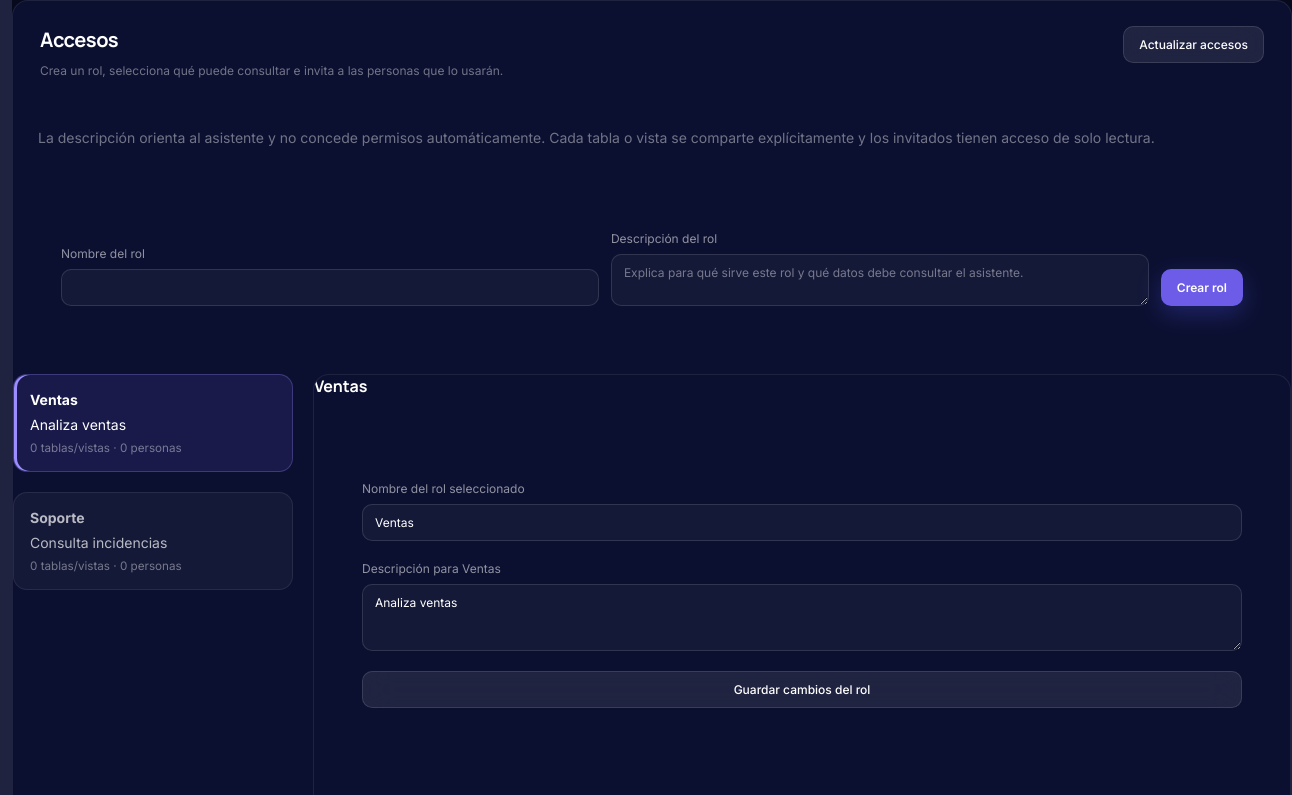
Test: conserva la descripción escrita si falla el guardado
Replace the text in the text box labelled "Descripción para Ventas" with "Nueva descripción" at (802, 617), box [362,584,1242,651]
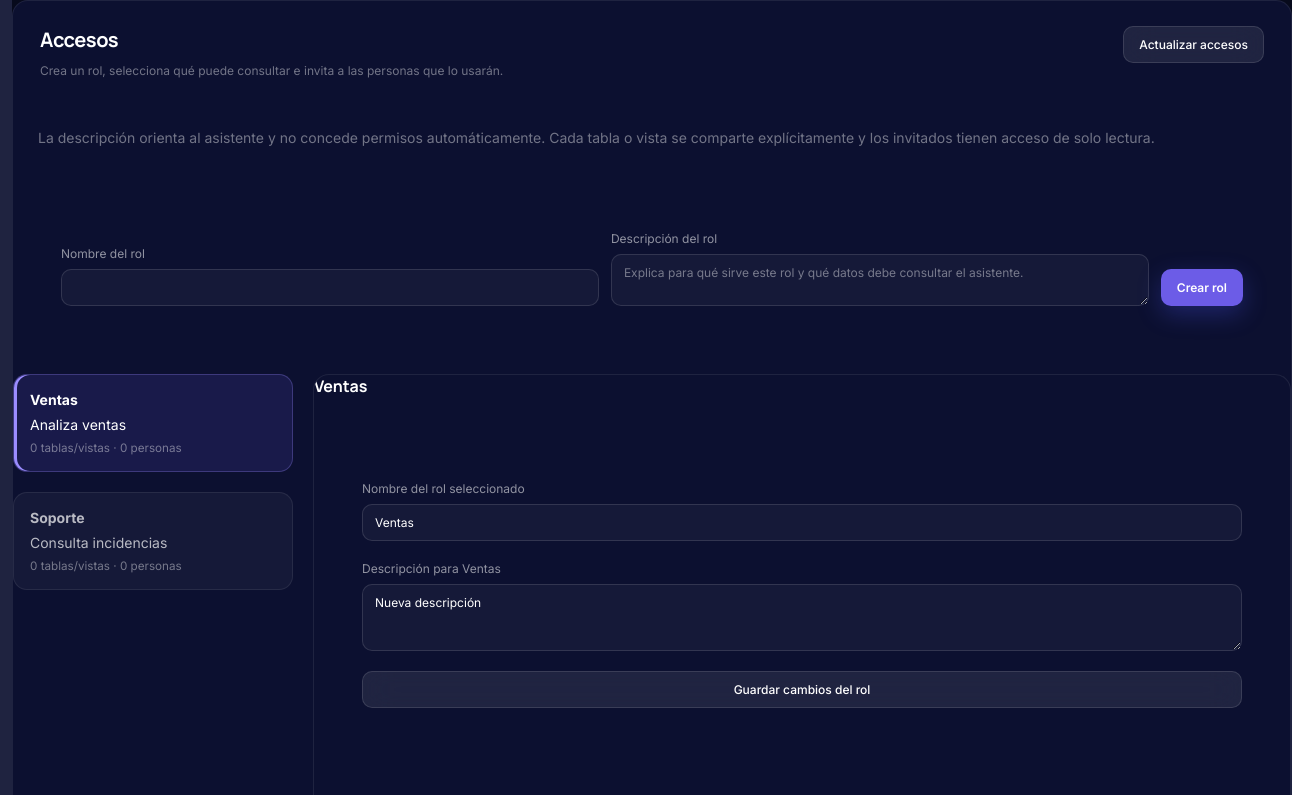
Click the button "Guardar cambios del rol" at (802, 689), box [362,671,1242,708]
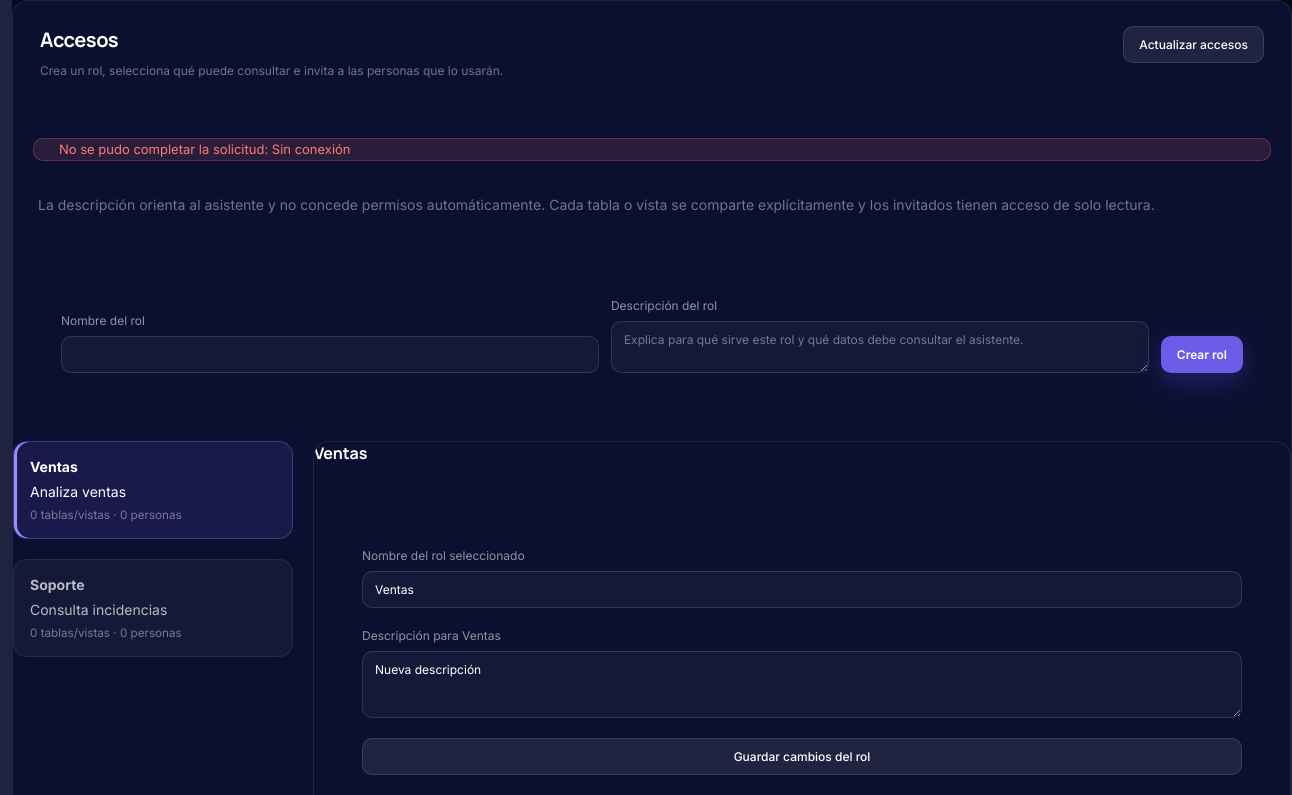
Now the message "No se pudo completar la solicitud: Sin conexión" is shown, box [33,138,1271,161]
